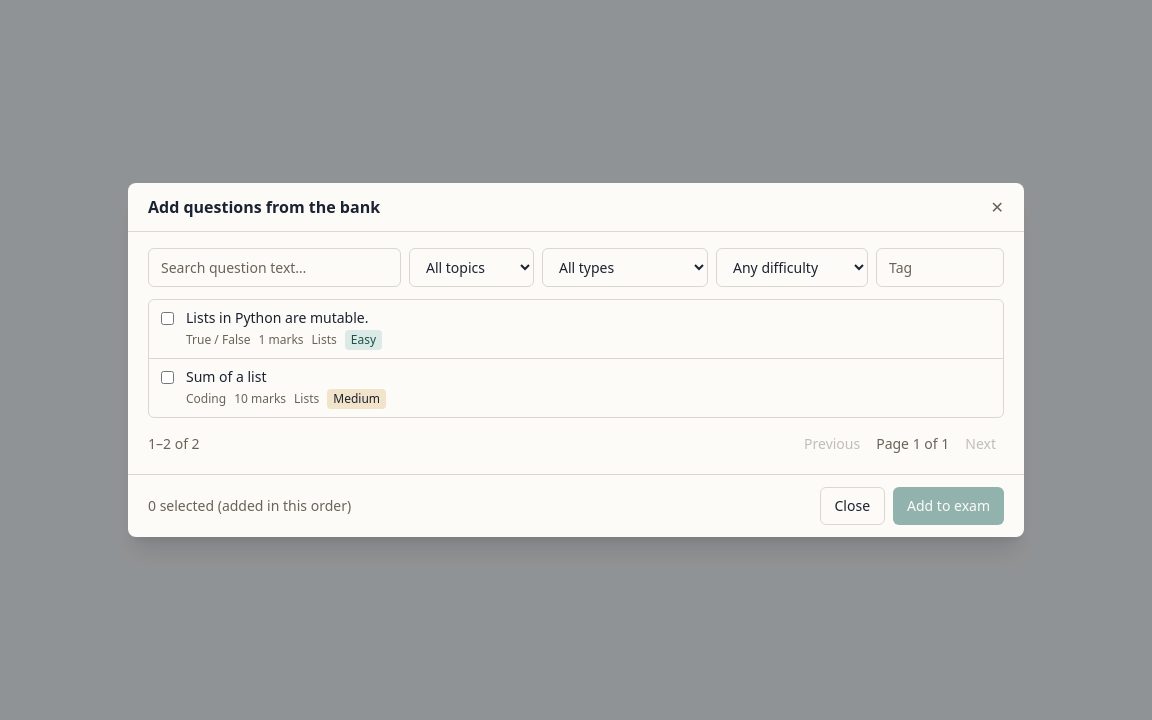
it: PickForExamDialog › offers only READY questions not already in the exam, and adds them in pick order
The image size is (1152, 720).
Expected: the text "Sum of a list" is shown, [186,367,266,386]
What coordinates should you click on to do the following:
click the checkbox named "Select Sum of a list"
I would click on:
 (168, 378)
Its box is [161,371,174,384].
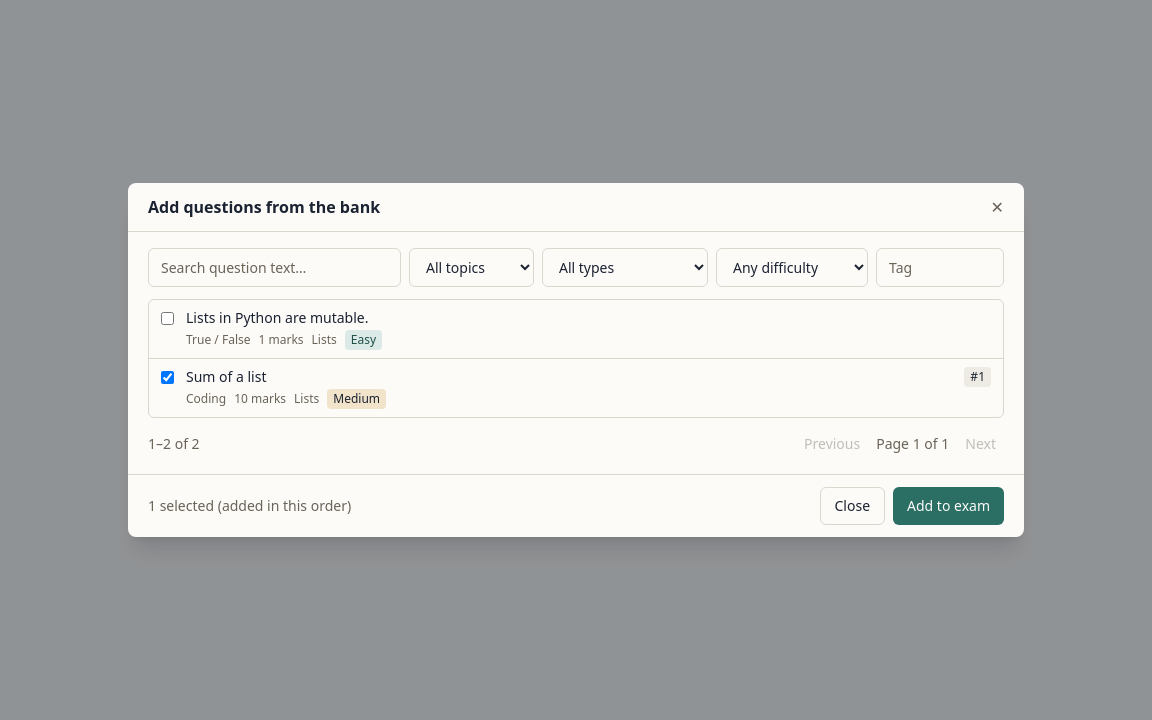
What coordinates should you click on to do the following:
click the checkbox named "Select Lists in Python are mutable."
I would click on:
 (168, 318)
Its box is [161,312,174,325].
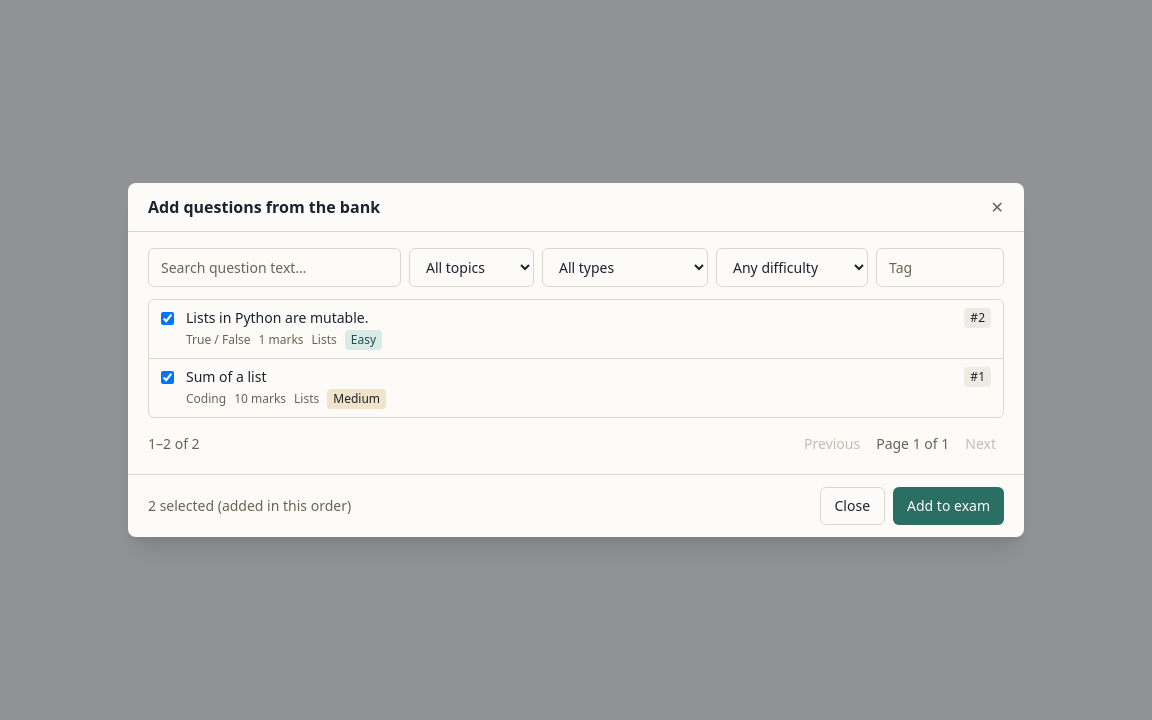
What coordinates should you click on to do the following:
click the button "Add to exam"
I would click on:
 (949, 506)
Its box is [893,487,1004,525].
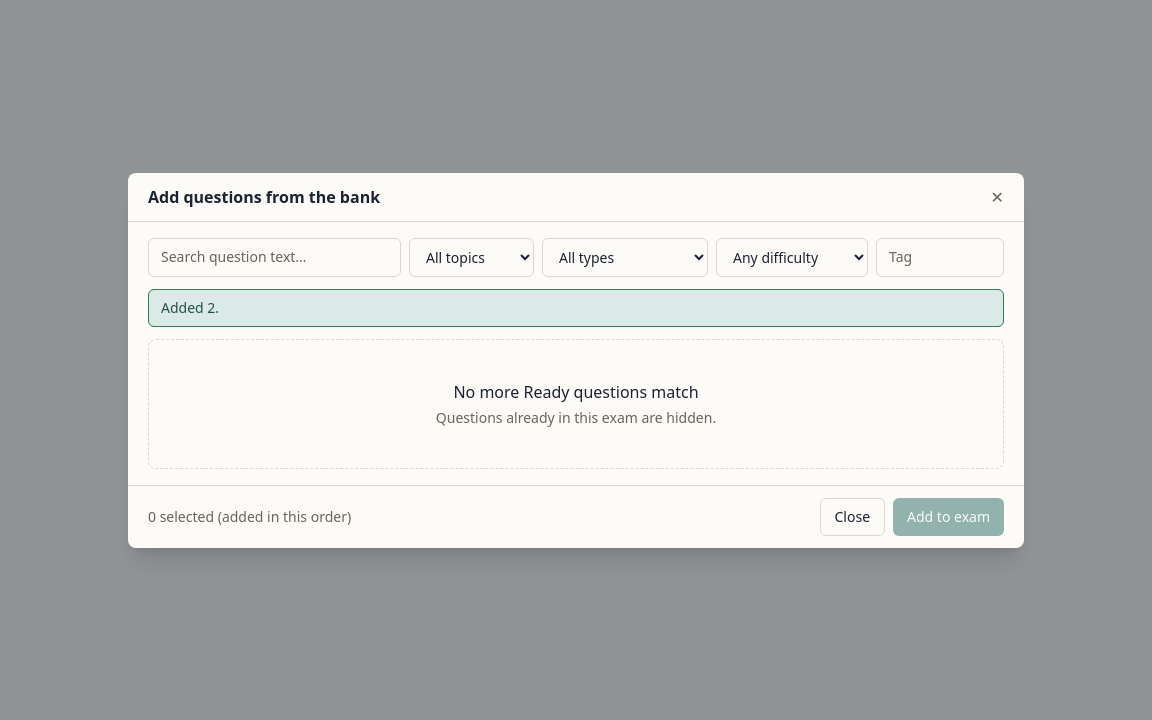
Expected: the text "Added 2." is shown, [148,288,1004,326]
